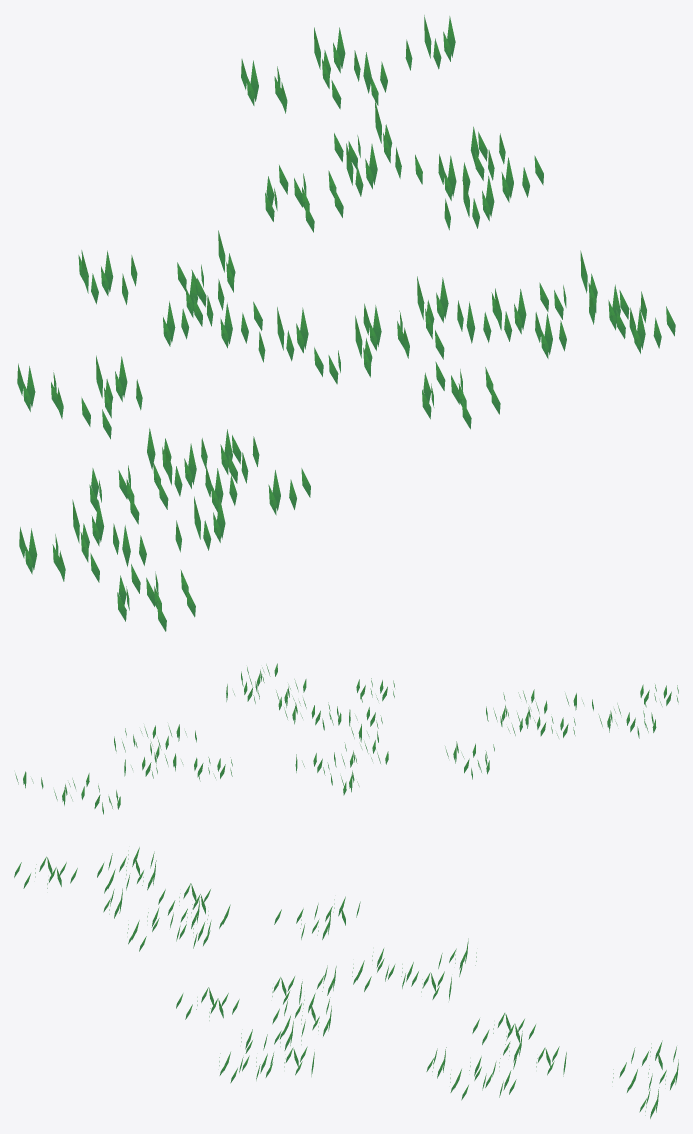
File: objects_un_c01main_grass02.gltf
3 renders of one model, top to bottom at view 1: azimuth 30°, elevation 25°; view 2: azimuth 150°, elevation 25°; view 3: azimuth 270°, elevation 25°, orthographic. The views are drawn at different scales.
Parts seen in each view (by area): view 1: objects_un_c01main_grass02_mesh_shape:objects_un_c01main_gra; view 2: objects_un_c01main_grass02_mesh_shape:objects_un_c01main_gra; view 3: objects_un_c01main_grass02_mesh_shape:objects_un_c01main_gra.
Boxes of the visible parts, left/top/right/bottom form: objects_un_c01main_grass02_mesh_shape:objects_un_c01main_gra: left=17, top=15, right=675, bottom=631; objects_un_c01main_grass02_mesh_shape:objects_un_c01main_gra: left=15, top=663, right=678, bottom=814; objects_un_c01main_grass02_mesh_shape:objects_un_c01main_gra: left=14, top=847, right=678, bottom=1118.
Bounding box in the file's own units: 6.93 × 0.3383 × 7.58.
1 material, 1 textured.
